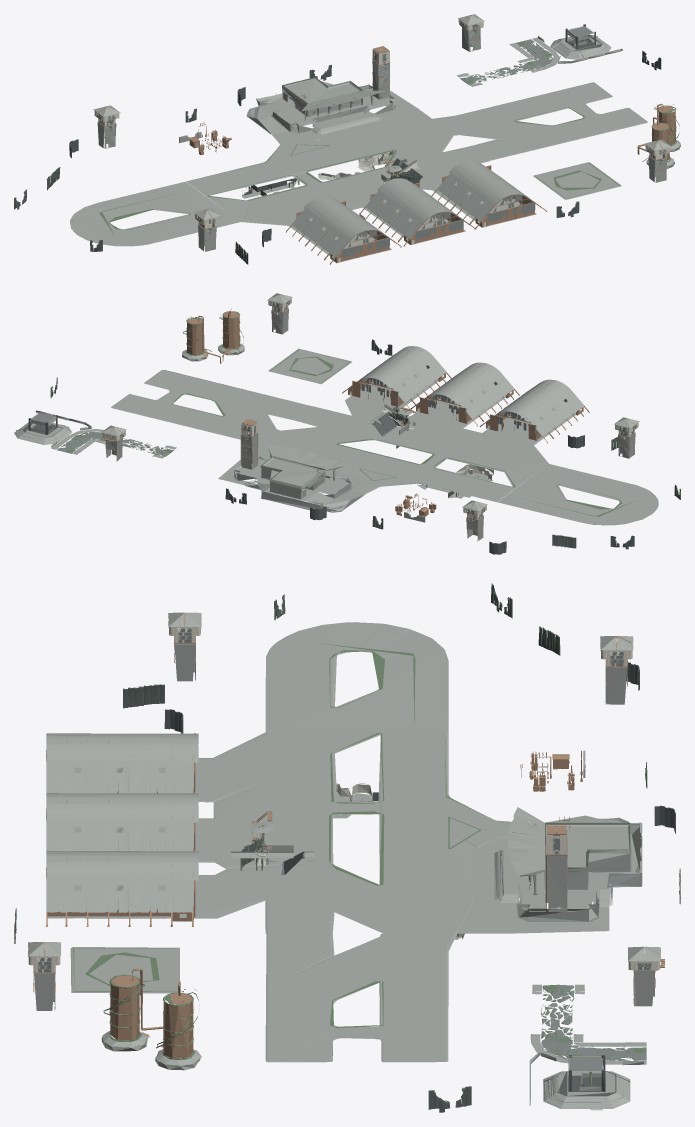
Rendered from airfield_1-map.glb.
3 views of the same model, one above another, from view 1: azimuth 30°, elevation 25°; view 2: azimuth 150°, elevation 25°; view 3: azimuth 270°, elevation 25° (orthographic). The views are drawn at different scales.
Parts seen in each view (by area): view 1: supermarket_counter_a_corner, watch_tower_b_LOD0, substation_b_LOD0, perimeter_wall_corner_LOD0, fuel_tank_a_600; view 2: supermarket_counter_a_corner, watch_tower_b_LOD0, substation_b_LOD0, perimeter_wall_corner_LOD0, fuel_tank_a_600; view 3: supermarket_counter_a_corner, watch_tower_b_LOD0, substation_b_LOD0, perimeter_wall_corner_LOD0, fuel_tank_a_600.
Boxes of the visible parts, x1,y1,x2,y2 form: supermarket_counter_a_corner: (70, 14, 680, 263); watch_tower_b_LOD0: (14, 16, 680, 264); substation_b_LOD0: (98, 15, 675, 264); perimeter_wall_corner_LOD0: (14, 24, 660, 264); fuel_tank_a_600: (241, 25, 594, 241); supermarket_counter_a_corner: (14, 293, 658, 540); watch_tower_b_LOD0: (31, 296, 680, 547); substation_b_LOD0: (101, 294, 639, 541); perimeter_wall_corner_LOD0: (23, 340, 680, 554); fuel_tank_a_600: (31, 403, 493, 498); supermarket_counter_a_corner: (28, 612, 660, 1109); watch_tower_b_LOD0: (14, 583, 680, 1112); substation_b_LOD0: (27, 612, 664, 1058); perimeter_wall_corner_LOD0: (14, 584, 680, 1112); fuel_tank_a_600: (251, 783, 603, 1110).
Bounding box in the file's own units: 343 × 46.36 × 190.
